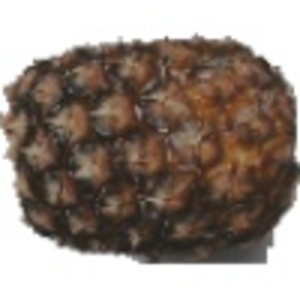abacaxi: (5, 27, 292, 253)
